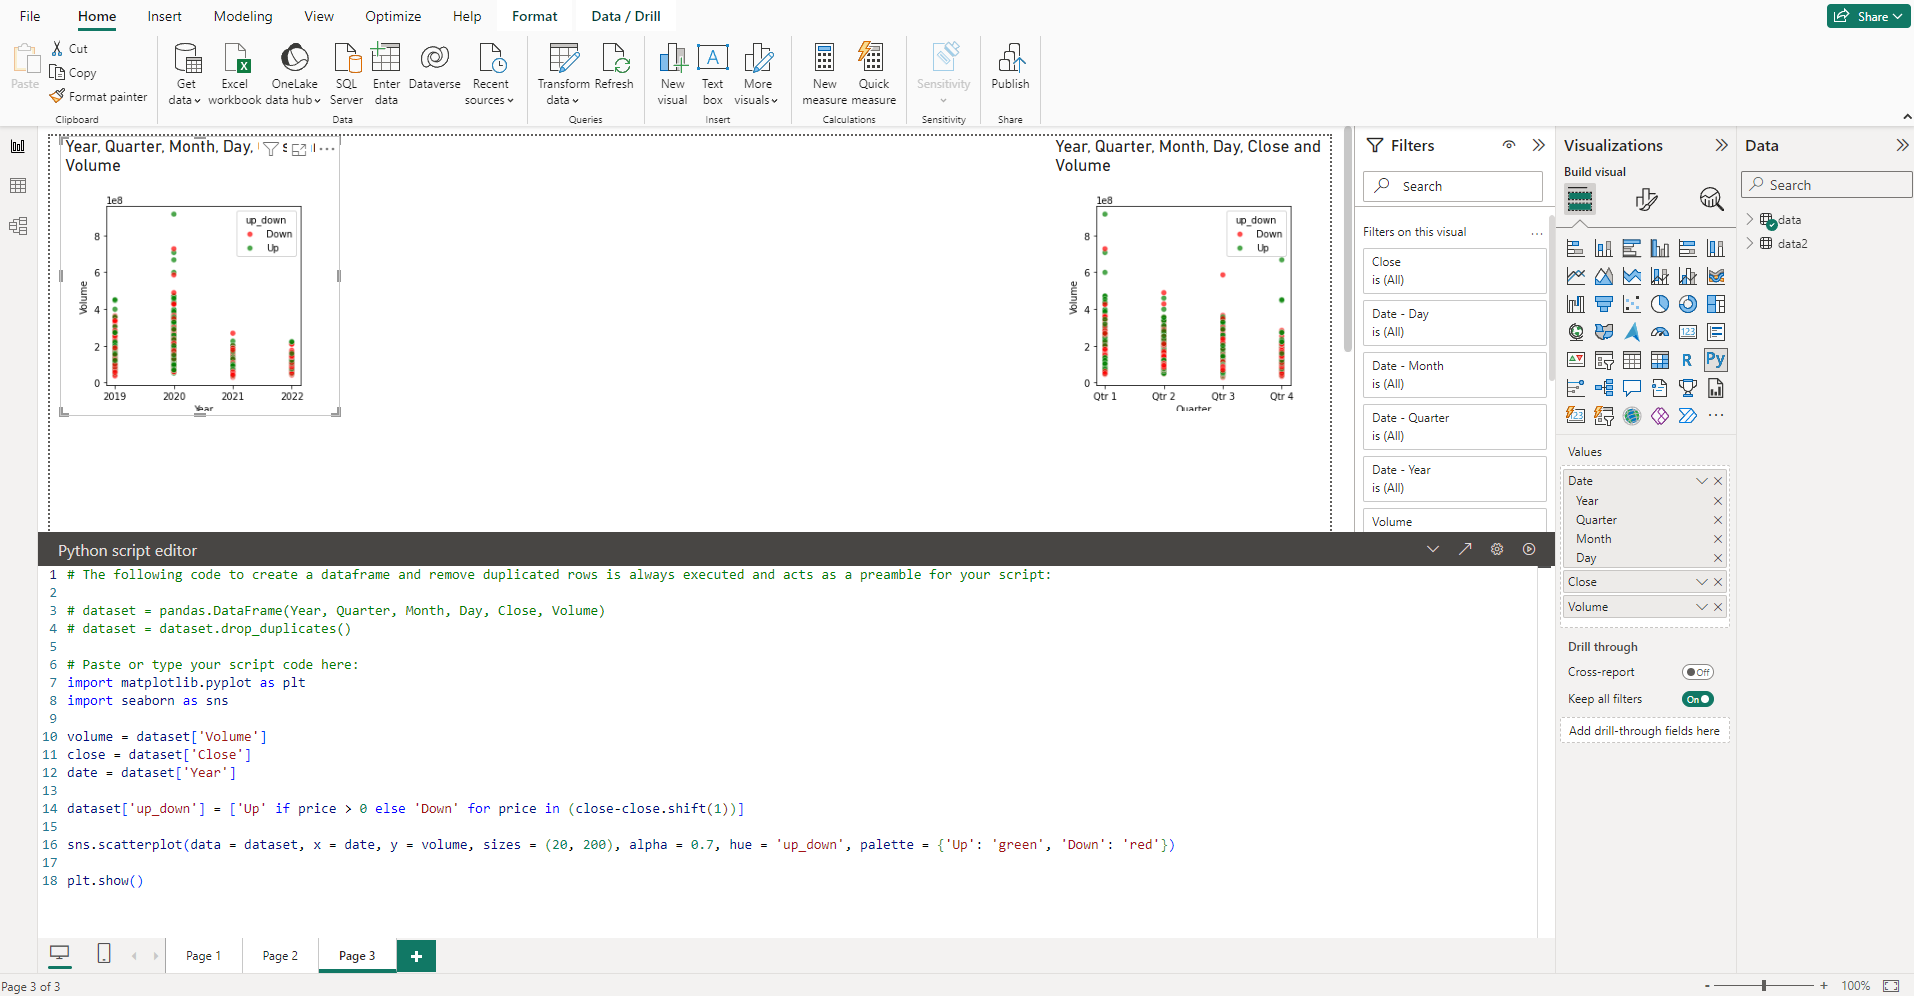

The dashboard page shown, as its layout file describes it:
{"tool":"powerbi","page":{"name":"Page 3","canvas":[1280,720],"ordinal":2},"visuals":[{"type":"pythonVisual","fields":{"Values":["data.Date.Variation.Date Hierarchy.Year","data.Date.Variation.Date Hierarchy.Quarter","data.Date.Variation.Date Hierarchy.Month","data.Date.Variation.Date Hierarchy.Day","data.Close","data.Volume"]},"box":[10,0,280,280],"z":0},{"type":"pythonVisual","fields":{"Values":["data.Date.Variation.Date Hierarchy.Year","data.Date.Variation.Date Hierarchy.Quarter","data.Date.Variation.Date Hierarchy.Month","data.Date.Variation.Date Hierarchy.Day","data.Close","data.Volume"]},"box":[1000,0,280,280],"z":1000},{"type":"pythonVisual","fields":{"Values":["data.Date.Variation.Date Hierarchy.Year","data.Date.Variation.Date Hierarchy.Quarter","data.Date.Variation.Date Hierarchy.Month","data.Date.Variation.Date Hierarchy.Day","data.Close","data.Volume"]},"box":[0,440,280,280],"z":2000},{"type":"pythonVisual","fields":{"Values":["data.Date.Variation.Date Hierarchy.Year","data.Date.Variation.Date Hierarchy.Quarter","data.Date.Variation.Date Hierarchy.Month","data.Date.Variation.Date Hierarchy.Day","data.Close","data.Volume"]},"box":[1000,440,280,280],"z":3000}]}

Visuals, with their boxes on the page's 1280x720 design canvas (x1, y1, x2, y2). These are canvas units, not pixel positions in the 1914x996 screenshot, which may show the page scaled, cropped or inside an application window:
pythonVisual - data.Date.Variation.Date Hierarchy.Year x data.Date.Variation.Date Hierarchy.Quarter: left=10, top=0, right=290, bottom=280
pythonVisual - data.Date.Variation.Date Hierarchy.Year x data.Date.Variation.Date Hierarchy.Quarter: left=1000, top=0, right=1280, bottom=280
pythonVisual - data.Date.Variation.Date Hierarchy.Year x data.Date.Variation.Date Hierarchy.Quarter: left=0, top=440, right=280, bottom=720
pythonVisual - data.Date.Variation.Date Hierarchy.Year x data.Date.Variation.Date Hierarchy.Quarter: left=1000, top=440, right=1280, bottom=720
